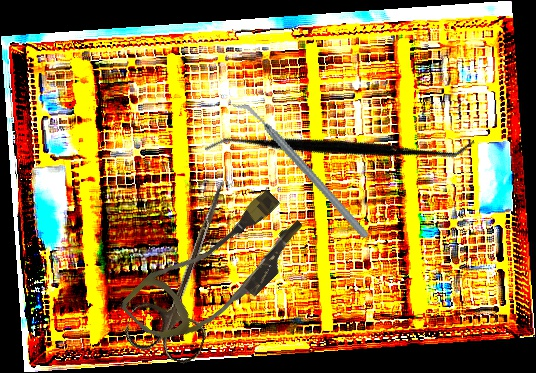Cannula: (118, 173, 315, 369)
Chopper: (232, 75, 371, 265)
Iris Scissors: (121, 168, 255, 368)
Spatula Surgical: (202, 26, 477, 264)
